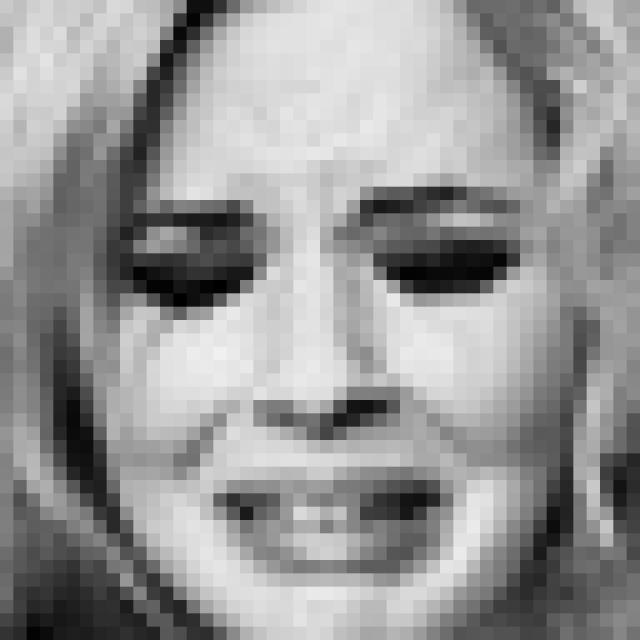sad: (116, 158, 542, 596)
